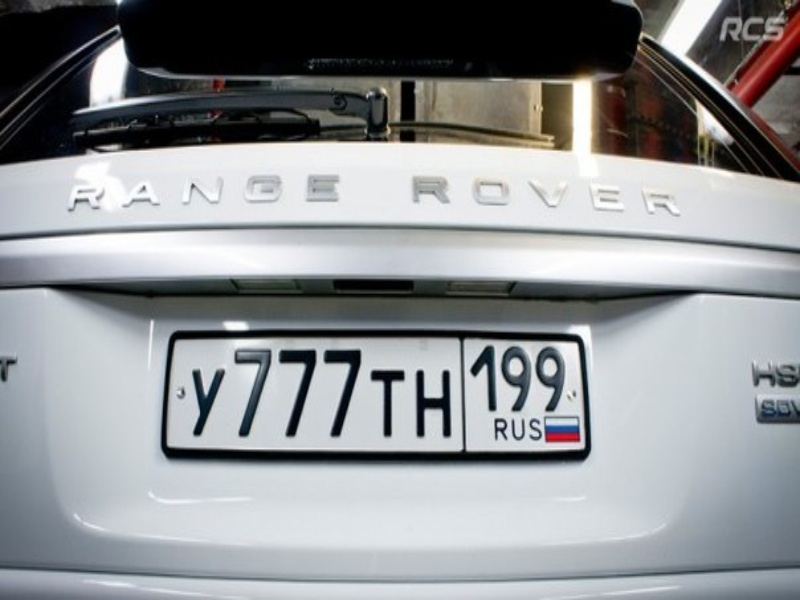car: (1, 1, 800, 600)
plate: (167, 339, 585, 449)
